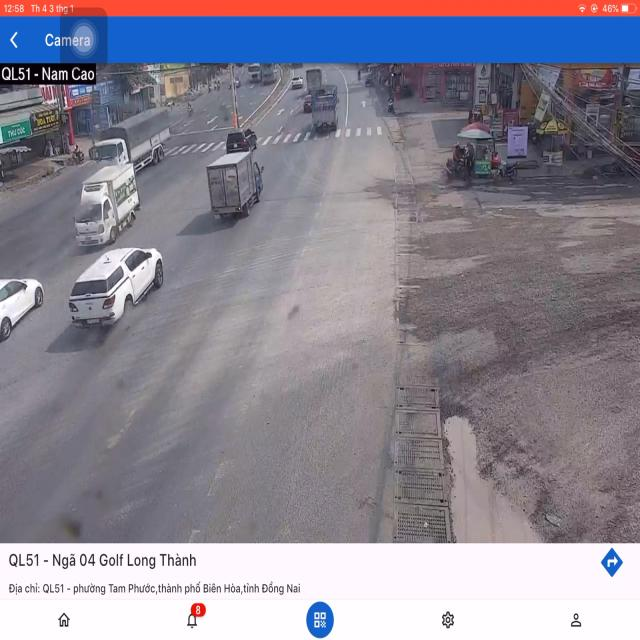car: (70, 244, 166, 329), (0, 274, 43, 345)
truck: (74, 164, 140, 244), (90, 104, 174, 164), (207, 155, 262, 217), (309, 83, 340, 135)
